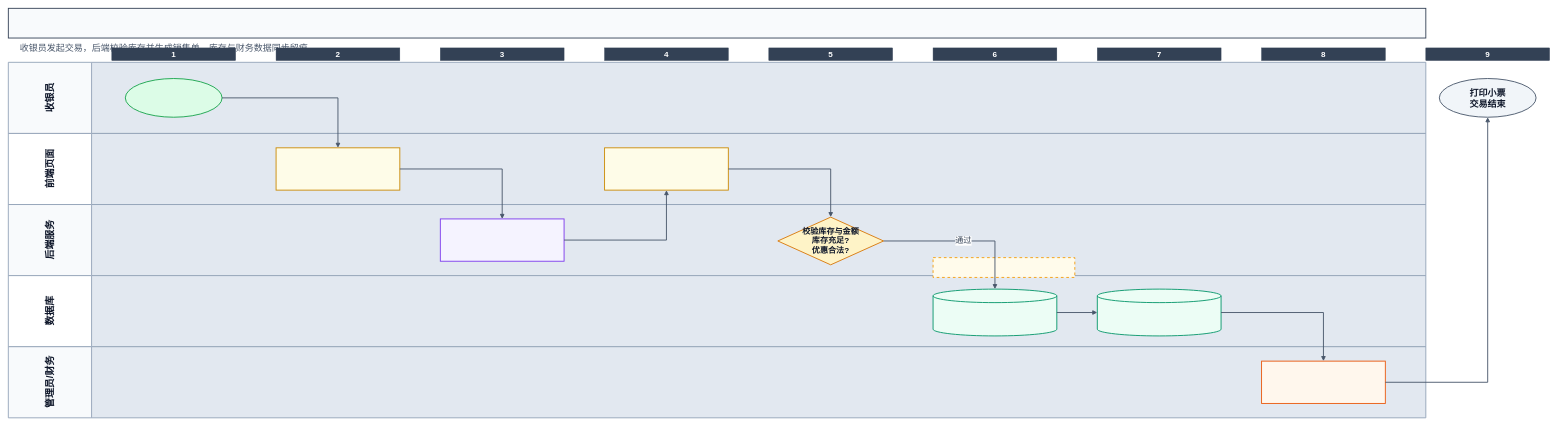
Some shapes in this 1557 by 426 pixel diagram are drawn without their labels. The shapes that lost their labels are listed below. From the top down, each one's centre as x and y in pixels, then its label:
[717,23]: 销售收银泳道图
[173,97]: 开始收银 登录收银台
[337,168]: 检索商品 名称/编码/条码 /cashier
[666,168]: 加入购物车 数量/折扣/支付 cashier.js
[502,239]: 查询可售库存 /api/cashier/products status=1
[1003,267]: 库存不足/金额异常 -> 返回错误提示
[994,312]: 写销售单 sales sale_items
[1159,312]: 扣减库存 inventory inventory_logs
[1323,382]: 复核订单/财务 /sales /finance
